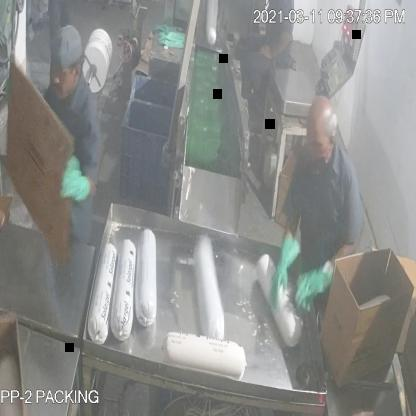glove: (57, 150, 92, 216)
no_glove: (263, 230, 299, 304), (291, 263, 332, 315), (257, 34, 294, 68)
